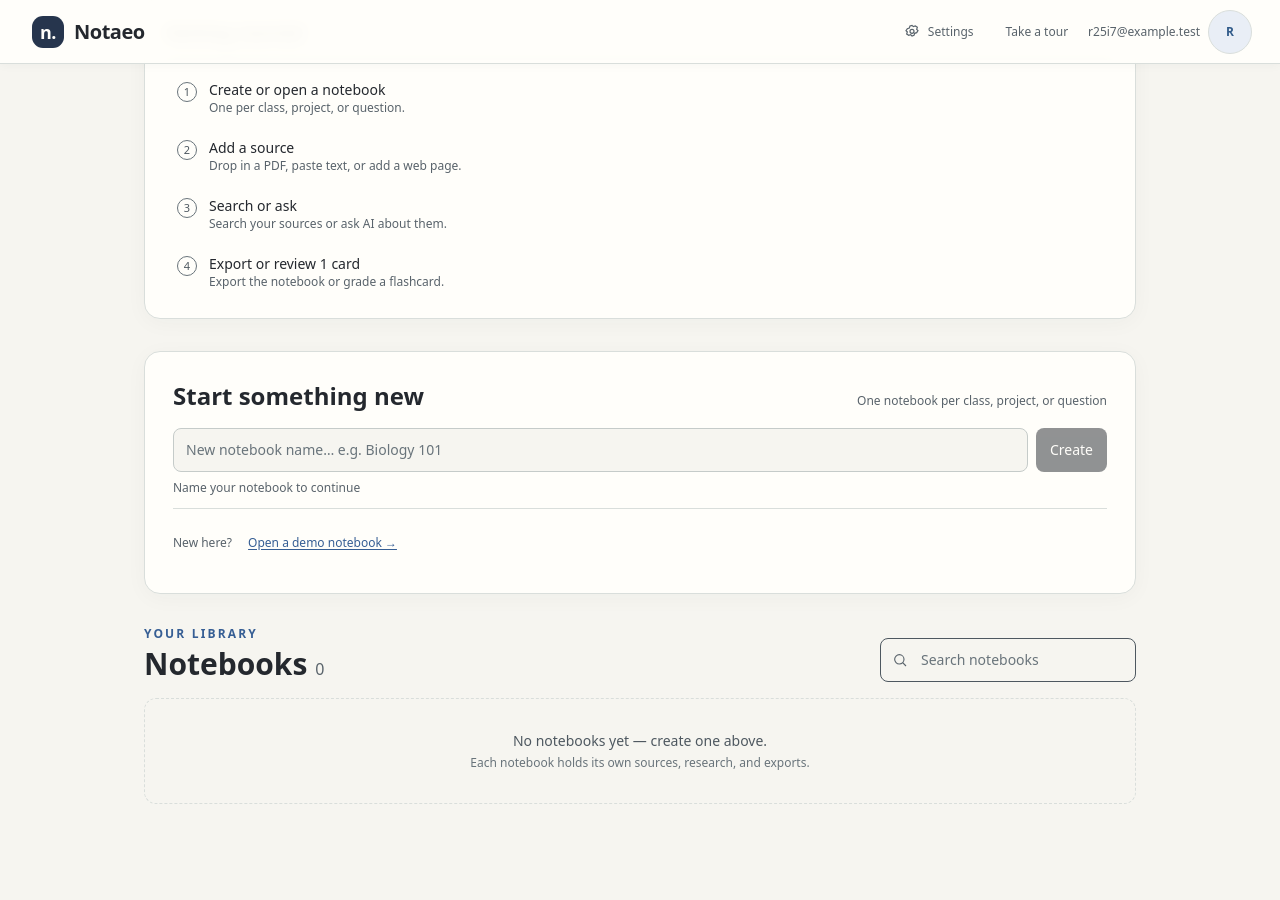
post-create focus is the paste title input or the labeled region, never an unnamed div
The image size is (1280, 900).
(page scrolled)
Step 1. Type "Chemistry 101" into the field with placeholder "New notebook name… e.g. Biology 101" → (600, 450), box [173,428,1028,472]
(page scrolled)
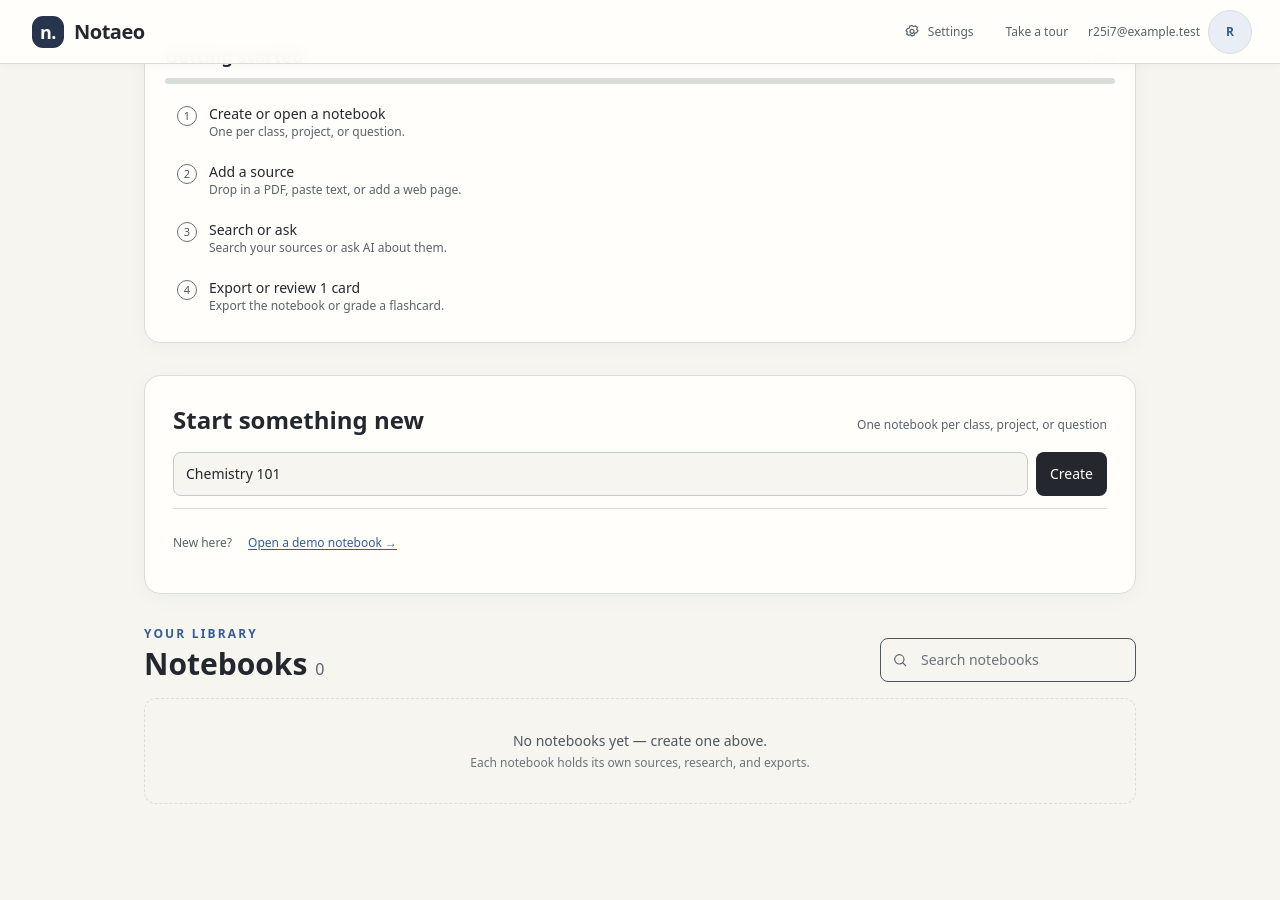
Step 2. Click the button "Create" → click(1071, 474), box [1036,452,1107,496]
(page scrolled)
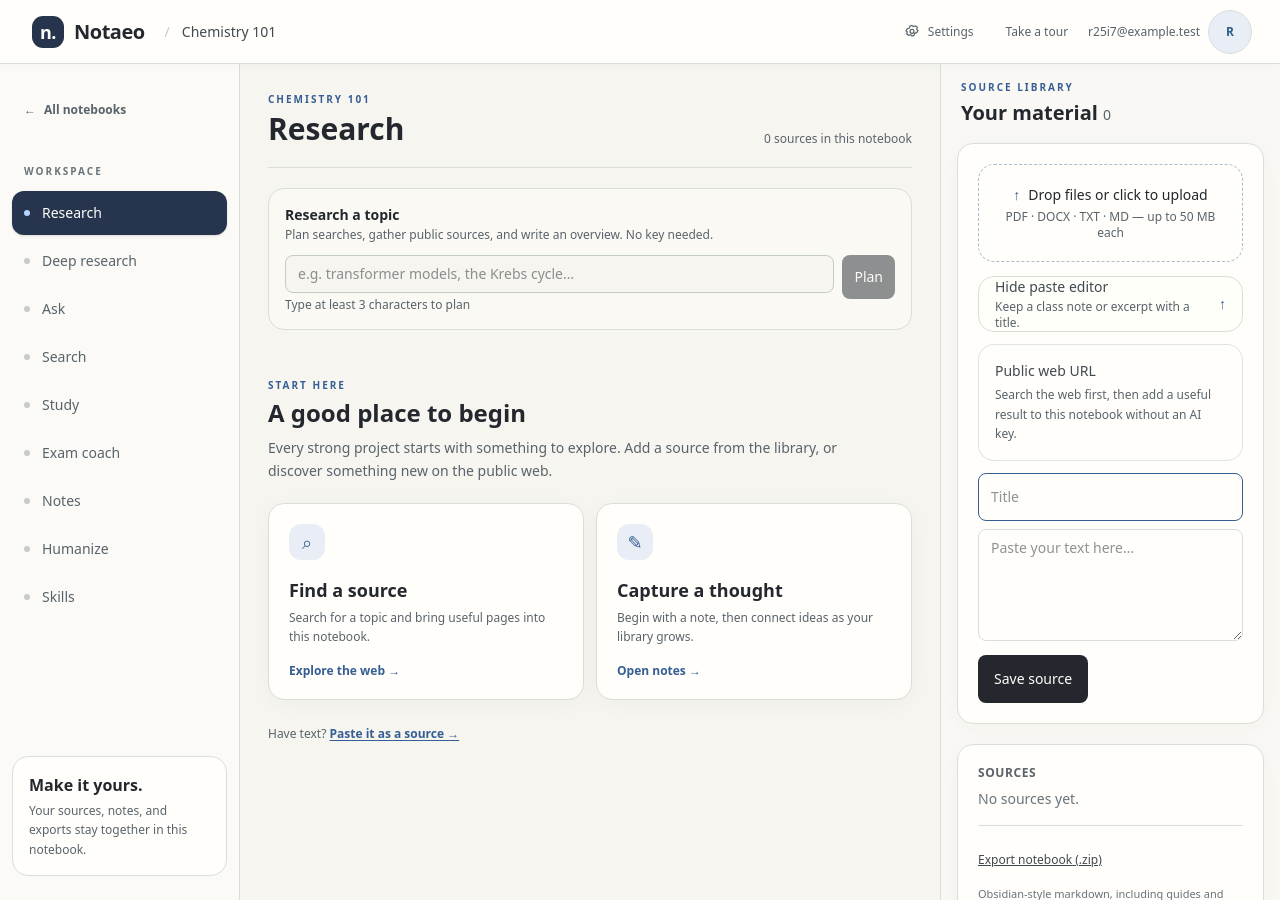
Now the field with placeholder "Title" is shown, box [978,472,1243,520]
